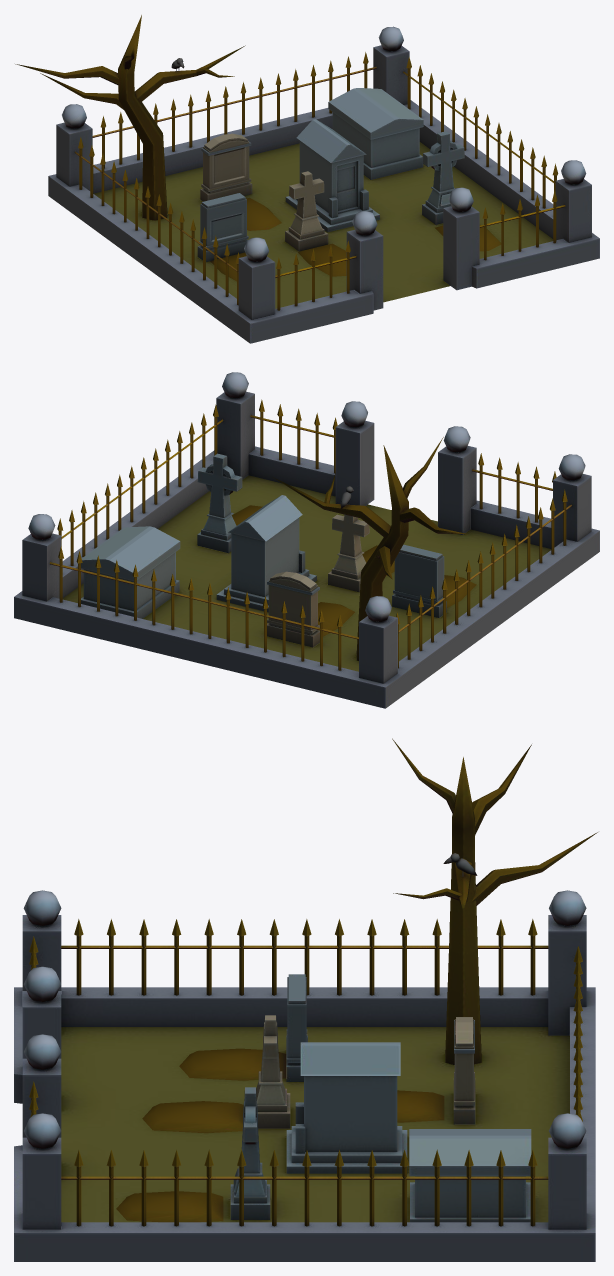
File: Cemetery.glb
3 renders of one model, top to bottom at view 1: azimuth 30°, elevation 25°; view 2: azimuth 150°, elevation 25°; view 3: azimuth 270°, elevation 25°, orthographic. The views are drawn at different scales.
Parts seen in each view (by area): view 1: Line004; view 2: Line004; view 3: Line004.
Boxes of the visible parts, x1,y1,x2,y2 form: Line004: [15, 15, 599, 343]; Line004: [14, 372, 599, 708]; Line004: [14, 738, 597, 1261].
Size of the model in its own units: 6.37 by 3.1 by 5.53.
Materials: 1 (1 with a texture image).
